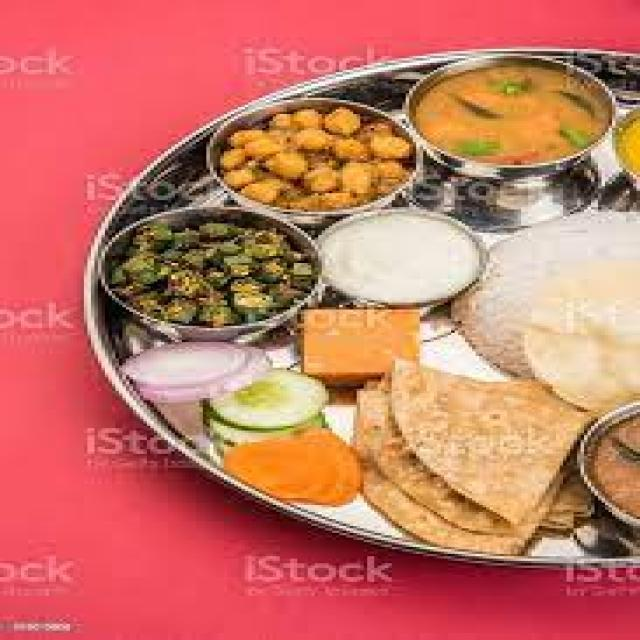curd: (313, 201, 490, 309)
dal: (400, 59, 612, 168)
papad: (534, 265, 637, 407)
rice: (476, 184, 634, 367)
roti: (375, 366, 563, 515)
sweet: (211, 427, 360, 509)
veg-fry: (96, 202, 329, 334)
